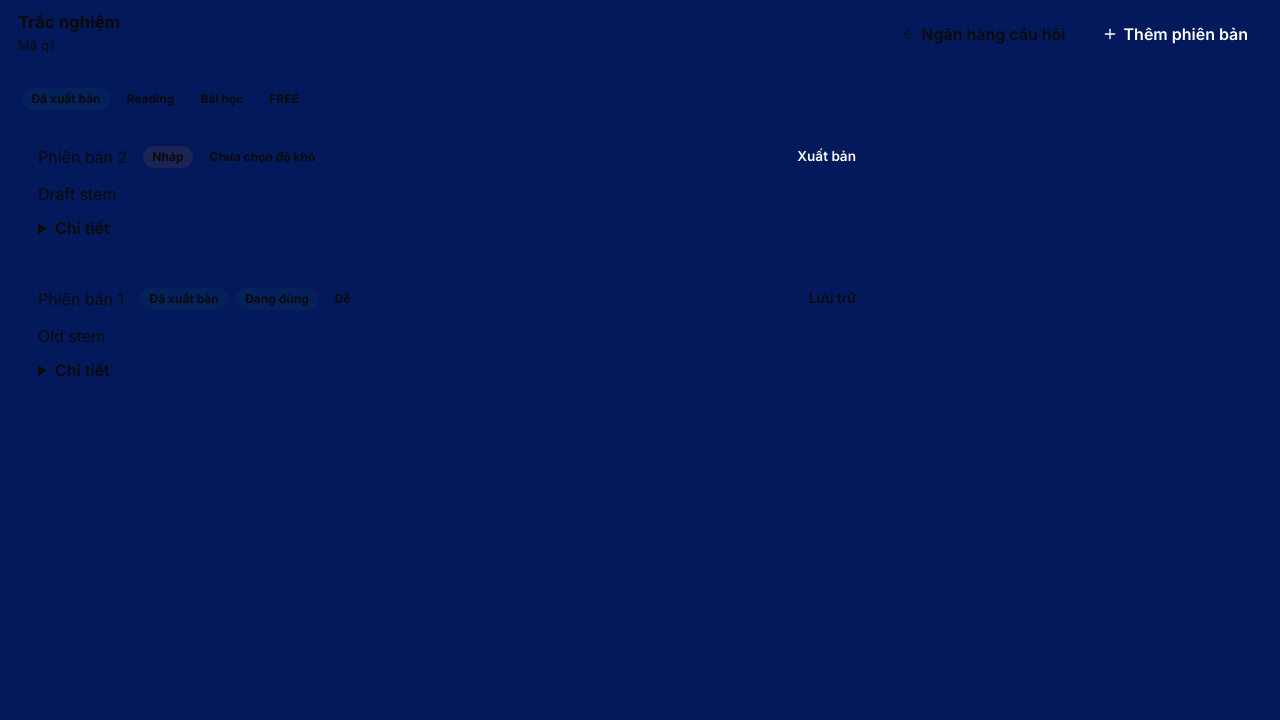
QuestionDetailPage › shows the server message when saving a version fails
This screenshot has width=1280, height=720.
Click the button "Thêm phiên bản" at coordinates (1175, 34), box 1088,15 -> 1262,53
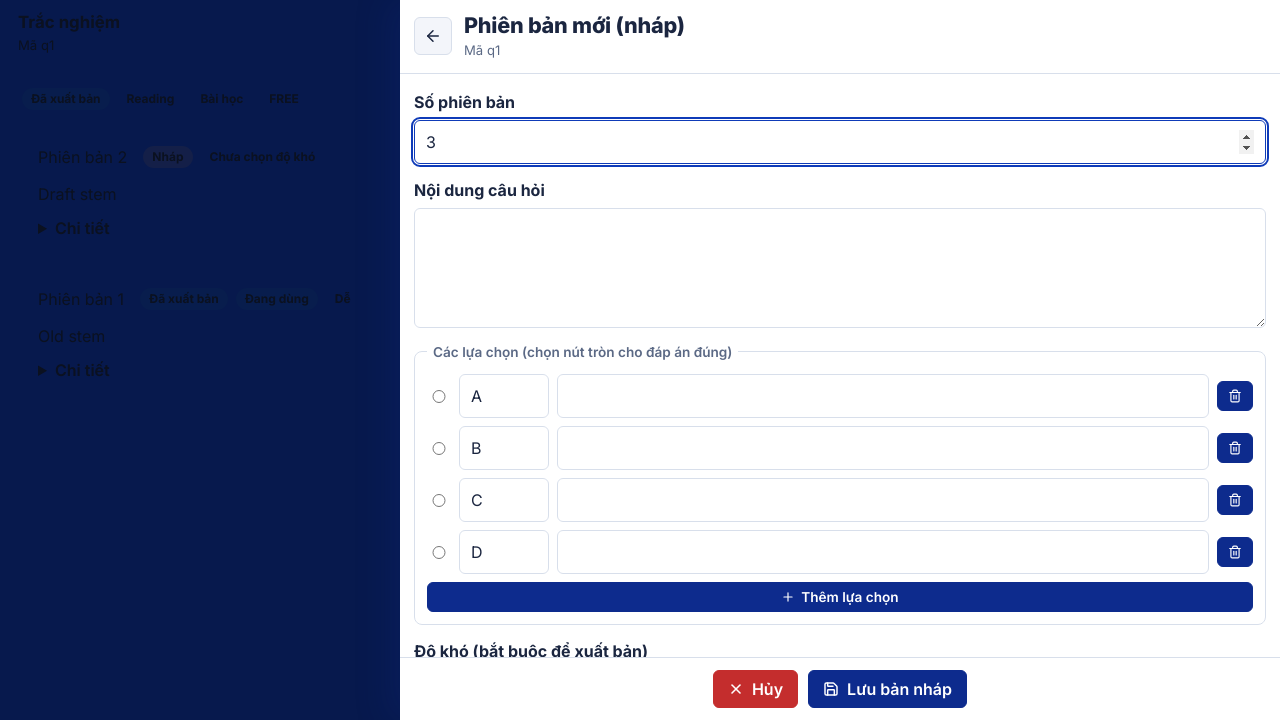
Type "Stem" into the text box labelled "Nội dung câu hỏi" at coordinates (840, 268), box 414,208 -> 1266,328
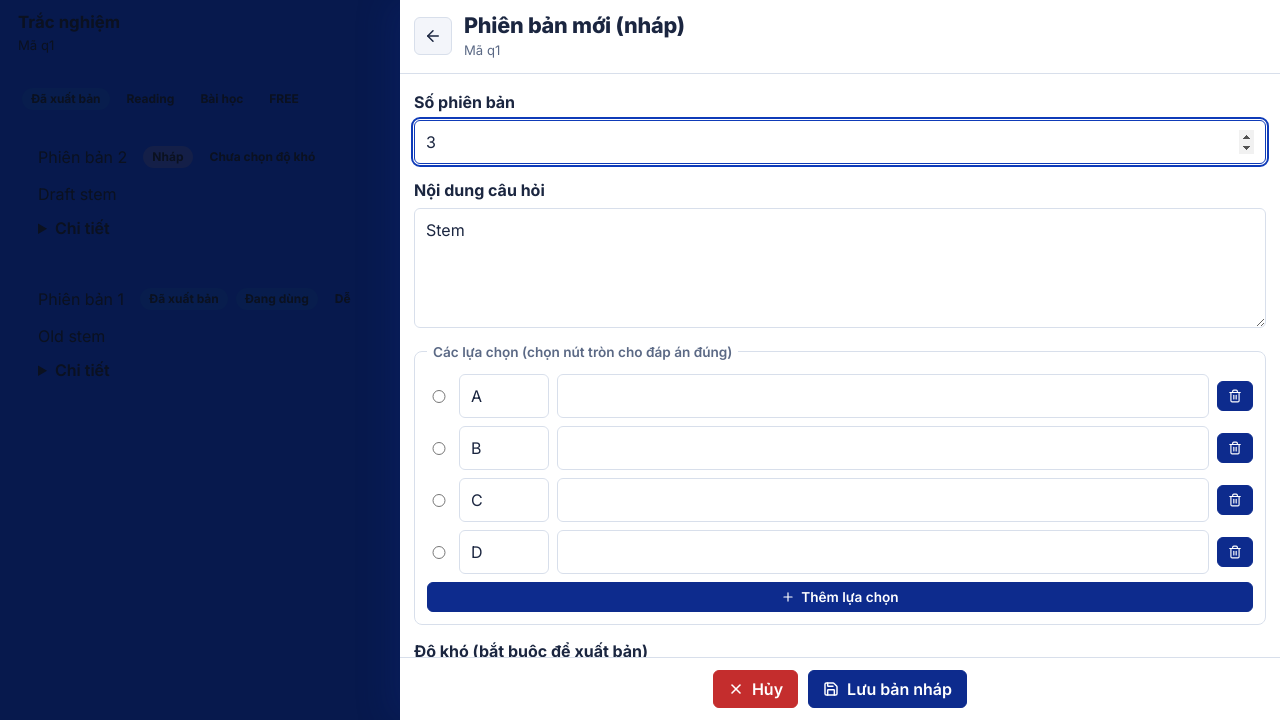
Type "One" into the field named "Nội dung lựa chọn 1" at coordinates (883, 396), box 557,374 -> 1209,418
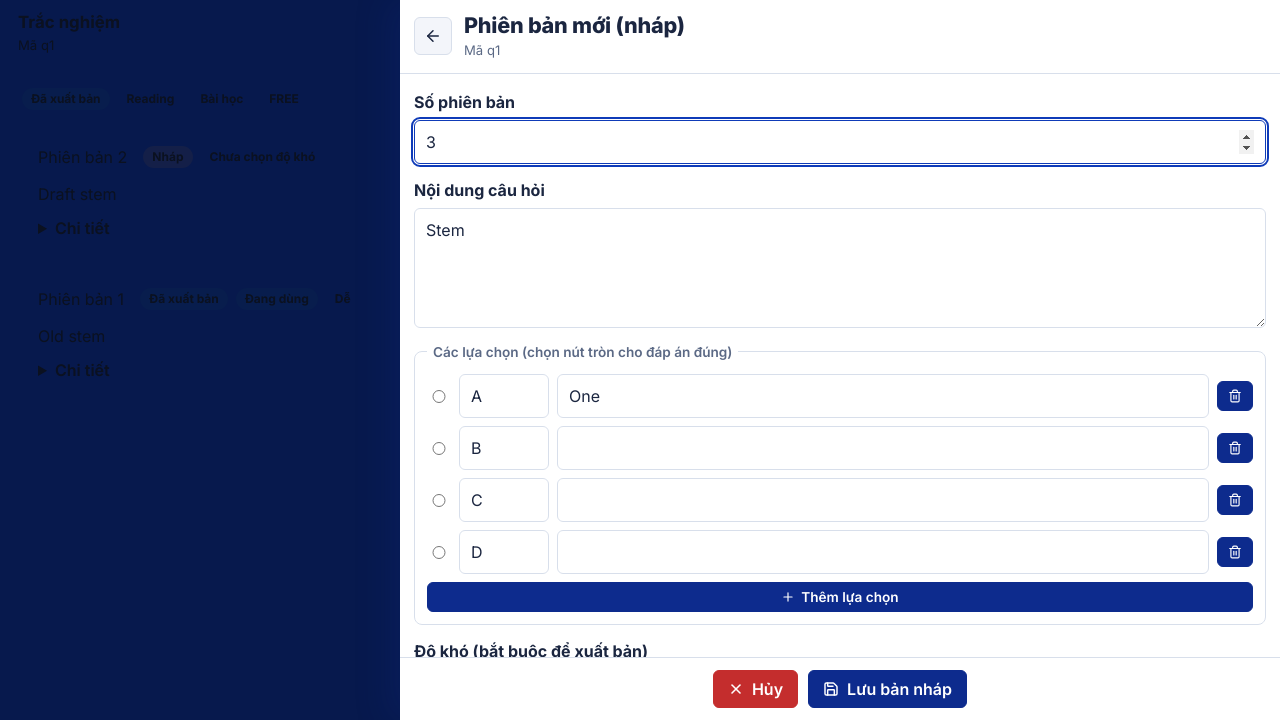
Type "Two" into the field named "Nội dung lựa chọn 2" at coordinates (883, 448), box 557,426 -> 1209,470
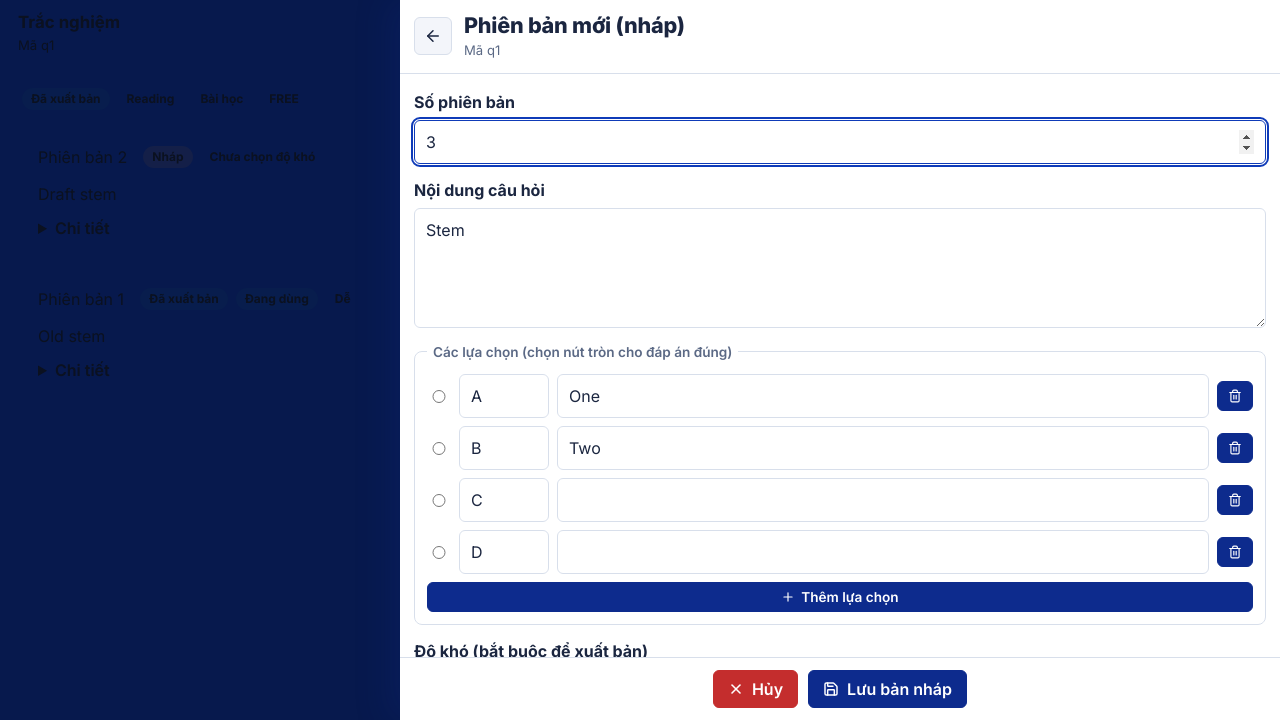
Click the radio button named "Đáp án đúng là lựa chọn 1" at coordinates (439, 396), box 427,390 -> 451,403
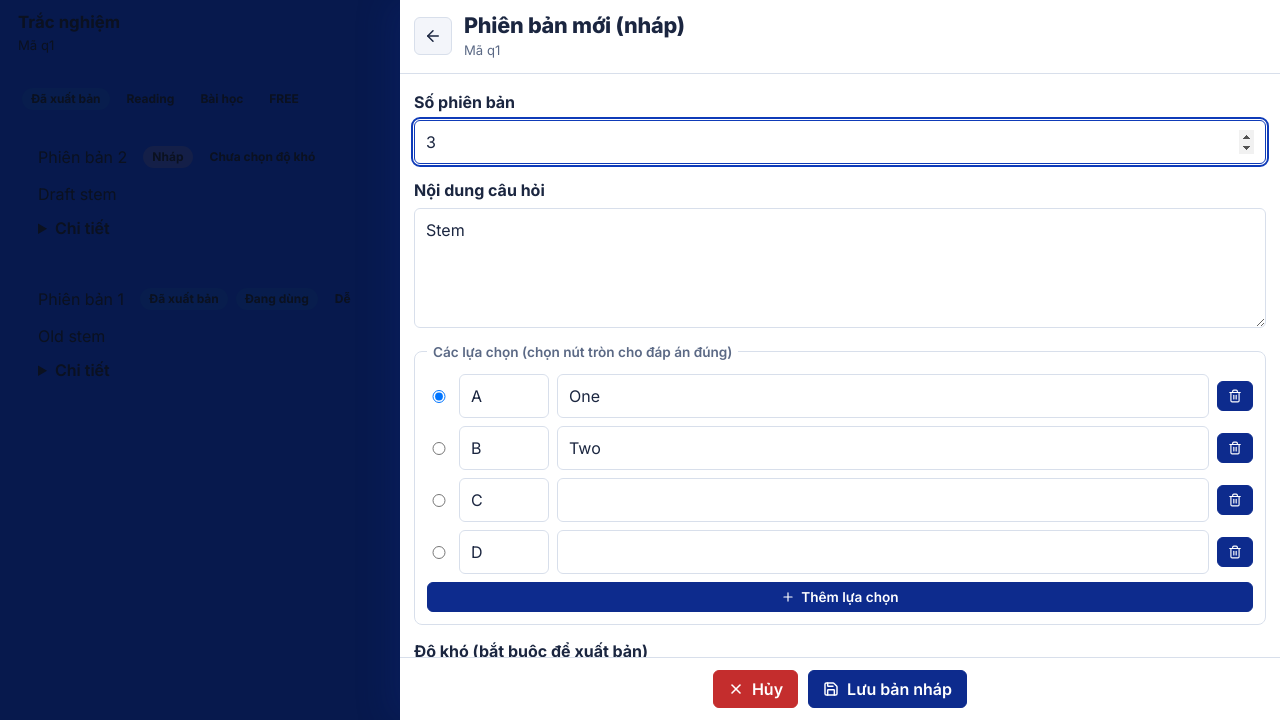
Click the button "Lưu bản nháp" at coordinates (888, 689), box 808,670 -> 967,708
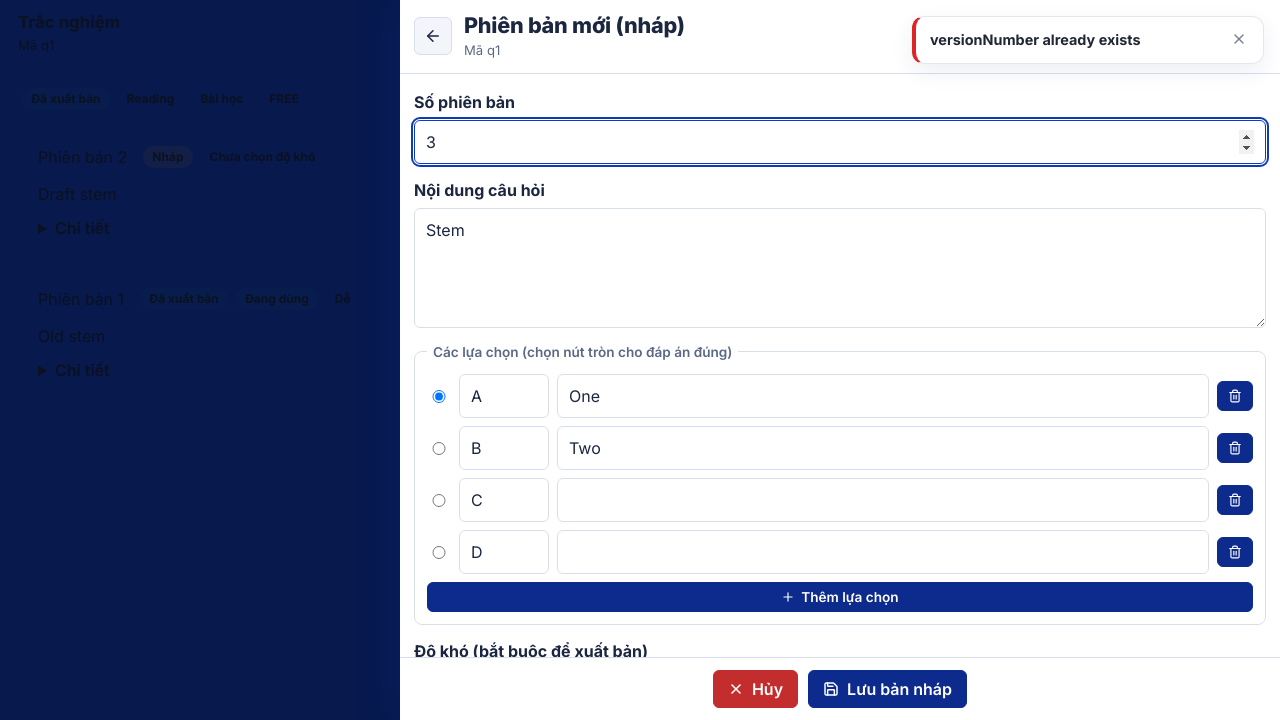
Check: the text "versionNumber already exists" is shown, box 930,31 -> 1140,48
